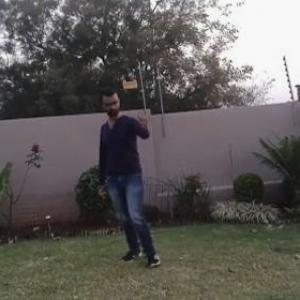takeoff-hand: (134, 100, 158, 128)
